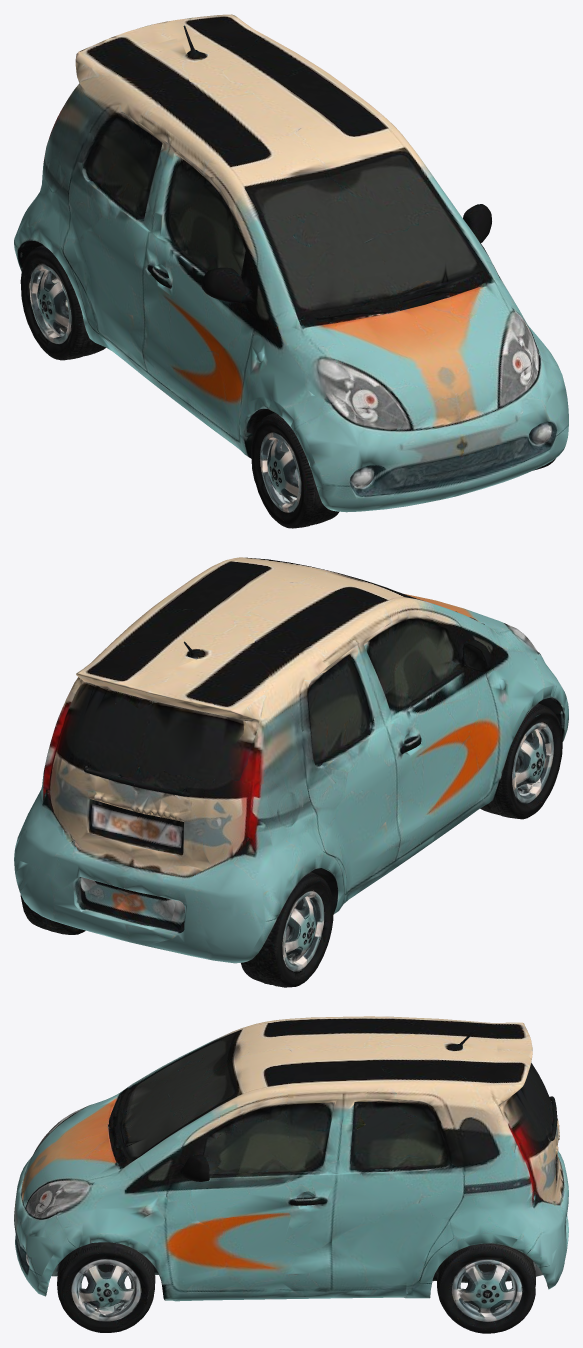
Rendered from courierTeal.glb.
The picture shows the model from 3 angles, top to bottom: view 1: azimuth 30°, elevation 25°; view 2: azimuth 150°, elevation 25°; view 3: azimuth 270°, elevation 25°; orthographic projection. The views are drawn at different scales.
Bounding box in the file's own units: 0.9377 × 0.9609 × 1.9.
Materials: 1 (1 with a texture image).
